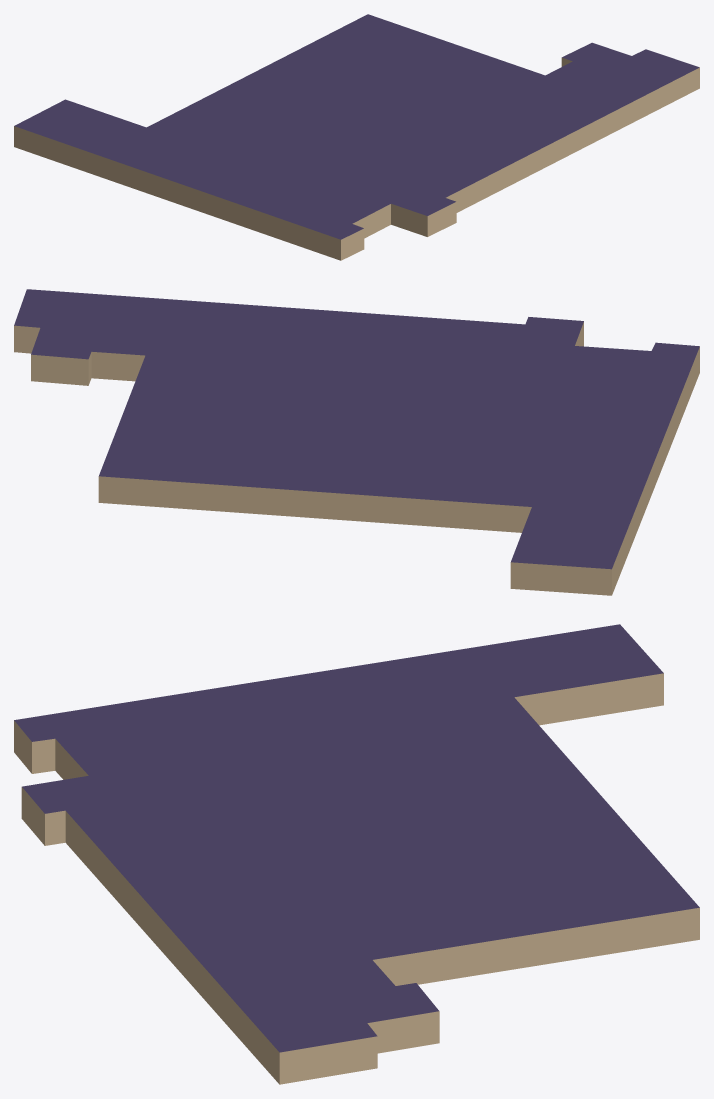
The model's file is b-015-burnlea-hall-day.glb.
3 renders of one model, top to bottom at view 1: azimuth 30°, elevation 25°; view 2: azimuth 150°, elevation 25°; view 3: azimuth 270°, elevation 25°, orthographic. The views are drawn at different scales.
Parts seen in each view (by area): view 1: campus/b-015-burnlea-hall-day-0; view 2: campus/b-015-burnlea-hall-day-0; view 3: campus/b-015-burnlea-hall-day-0.
Part boxes in pixels (x1,y1,x2,y2): campus/b-015-burnlea-hall-day-0: (14,14,699,260); campus/b-015-burnlea-hall-day-0: (14,289,699,595); campus/b-015-burnlea-hall-day-0: (14,624,699,1084).
Bounding box in the file's own units: 85.81 × 3 × 58.08.
